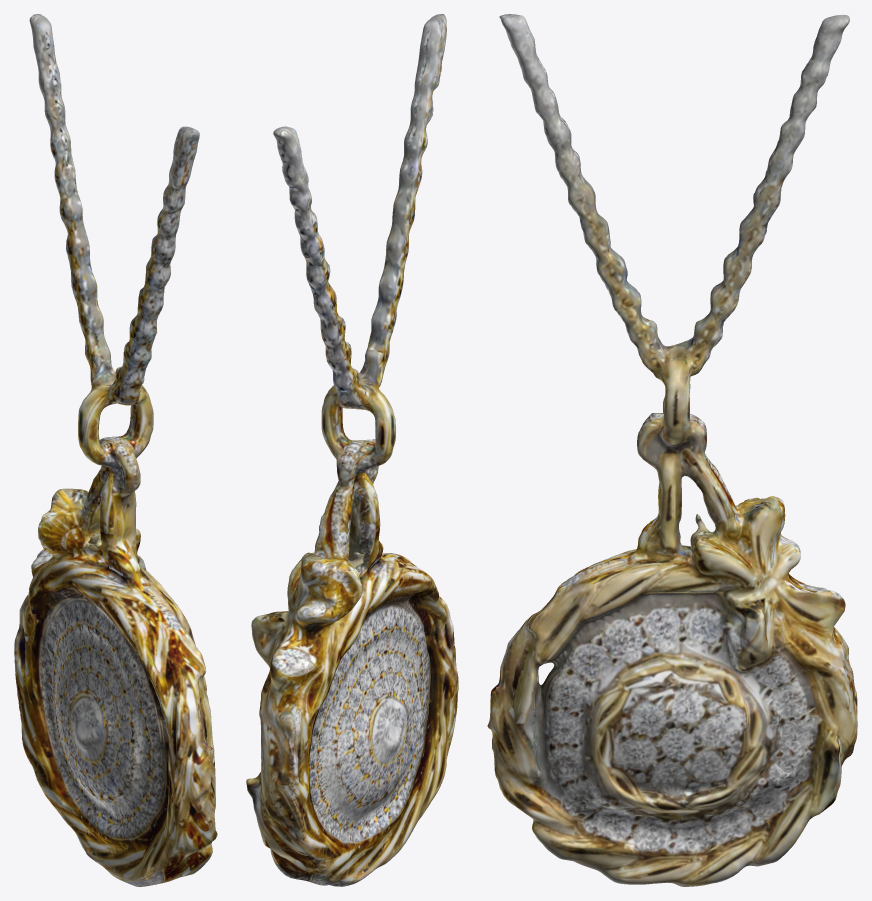
File: JIS003.glb
The picture shows the model from 3 angles, left to right: view 1: azimuth 30°, elevation 25°; view 2: azimuth 150°, elevation 25°; view 3: azimuth 270°, elevation 25°; orthographic projection. The views are drawn at different scales.
Parts seen in each view (by area): view 1: tripo_node_f82fd39a-54c0-420d-86a5-05f1416c0570; view 2: tripo_node_f82fd39a-54c0-420d-86a5-05f1416c0570; view 3: tripo_node_f82fd39a-54c0-420d-86a5-05f1416c0570.
Part boxes in pixels (left/top/right/bottom): tripo_node_f82fd39a-54c0-420d-86a5-05f1416c0570: left=14, top=14, right=217, bottom=886; tripo_node_f82fd39a-54c0-420d-86a5-05f1416c0570: left=246, top=14, right=458, bottom=886; tripo_node_f82fd39a-54c0-420d-86a5-05f1416c0570: left=487, top=14, right=857, bottom=886.
Size of the model in its own units: 0.141 by 1 by 0.3905.
Materials: 1 (1 with a texture image).
